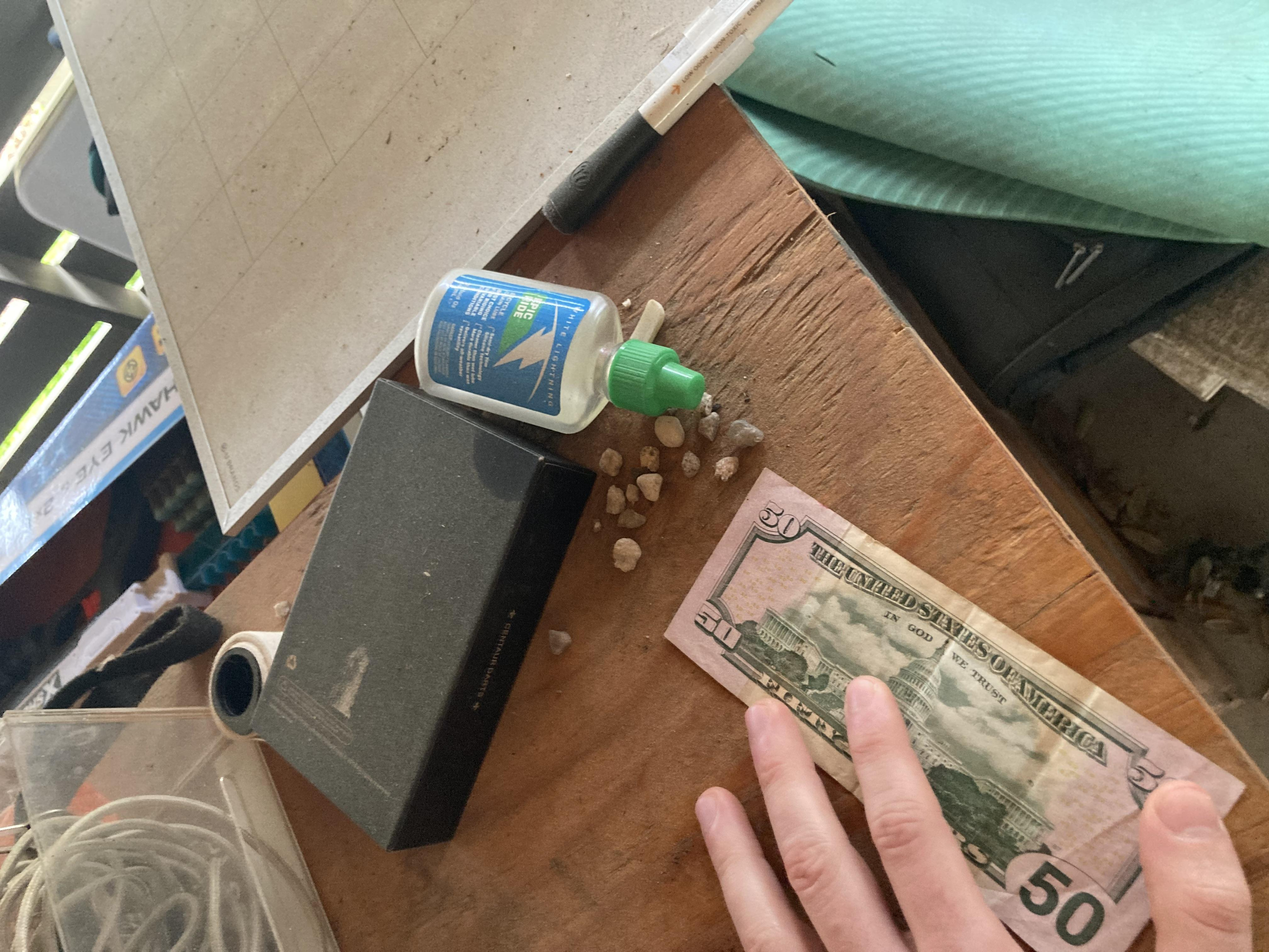fifty-back: (0, 498, 647, 934)
